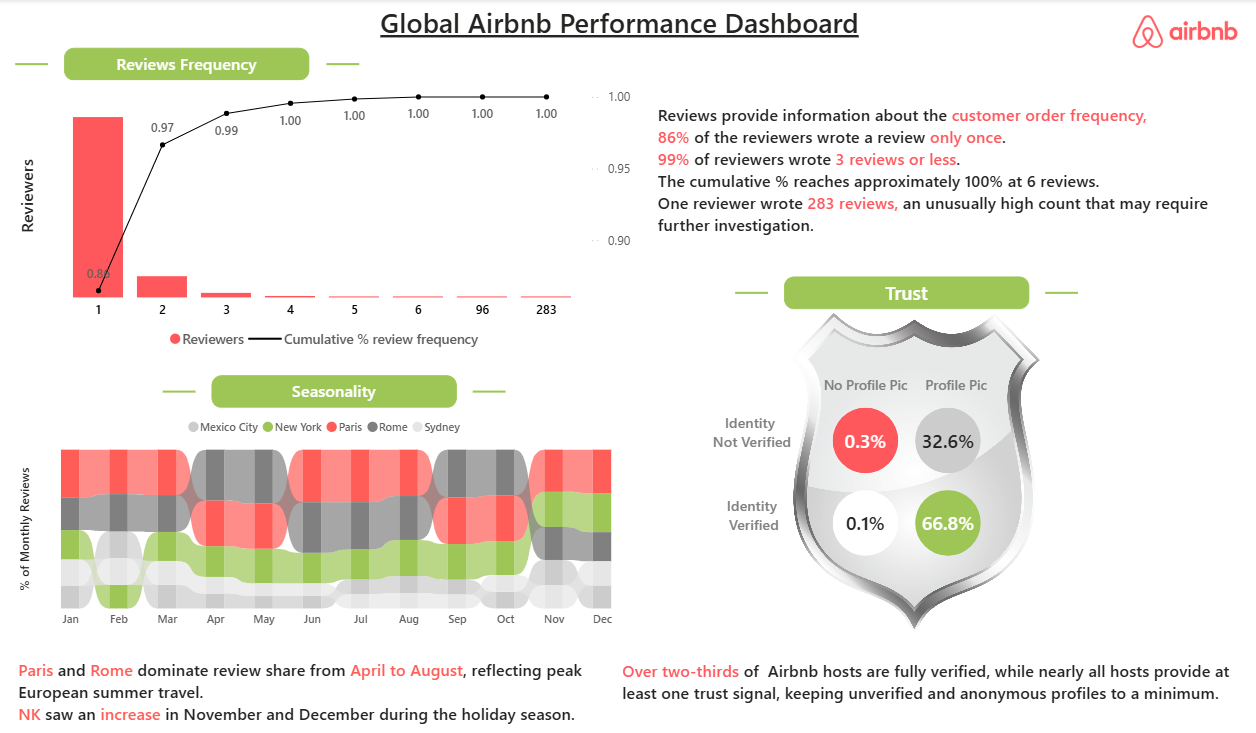

Layout of this report page (visuals, bound fields, positions):
{"tool":"powerbi","page":{"name":"Reviews","canvas":[1230,720],"ordinal":2},"visuals":[{"type":"textbox","box":[368,0,480,48],"z":0},{"type":"image","box":[1104,16,112,32],"z":1000},{"type":"textbox","box":[64,48,240,32],"z":2000},{"type":"shape","box":[16,48,32,32],"z":3000},{"type":"shape","box":[320,48,32,32],"z":4000},{"type":"lineStackedColumnComboChart","fields":{"Category":["Reviews.Reviews per Reviewer"],"Y2":["Reviews.Cumulative % review frequency"],"Y":["Reviews.Reviewers"]},"box":[16,80,608,272],"z":6000},{"type":"textbox","box":[640,96,576,160],"z":7000},{"type":"textbox","box":[768,272,240,32],"z":8000},{"type":"image","box":[656,304,480,320],"z":9000},{"type":"shape","box":[816,400,64,64],"z":10000},{"type":"shape","box":[896,400,64,64],"z":11000},{"type":"shape","box":[816,480,64,64],"z":12000},{"type":"shape","box":[896,480,64,64],"z":13000},{"type":"textbox","box":[816,416,64,32],"z":14000},{"type":"textbox","box":[896,416,64,32],"z":15000},{"type":"textbox","box":[816,496,64,32],"z":16000},{"type":"textbox","box":[800,368,96,32],"z":17000},{"type":"textbox","box":[896,368,80,32],"z":18000},{"type":"textbox","box":[672,400,128,48],"z":19000},{"type":"textbox","box":[672,480,128,48],"z":20000},{"type":"shape","box":[720,272,32,32],"z":21000},{"type":"shape","box":[1024,272,32,32],"z":22000},{"type":"textbox","box":[896,496,64,32],"z":23000},{"type":"textbox","box":[608,640,608,64],"z":24000},{"type":"textbox","box":[208,368,240,32],"z":25000},{"type":"shape","box":[464,368,32,32],"z":26000},{"type":"shape","box":[160,368,32,32],"z":27000},{"type":"ribbonChart","fields":{"Y":["Reviews.% of Monthly Reviews"],"Series":["Listings.city"],"Category":["Reviews.Review Month"]},"box":[16,400,608,224],"z":28000},{"type":"textbox","box":[16,640,576,80],"z":30000}]}

Visuals, with their boxes in screenshot pixels (x1, y1, x2, y2), scaled from the page's 1230x720 canvas onto the 1256x733 screenshot:
textbox: Rect(376, 0, 866, 49)
image: Rect(1127, 16, 1242, 49)
textbox: Rect(65, 49, 310, 81)
shape: Rect(16, 49, 49, 81)
shape: Rect(327, 49, 359, 81)
lineStackedColumnComboChart - Reviews.Reviews per Reviewer x Reviews.Cumulative % review frequency: Rect(16, 81, 637, 358)
textbox: Rect(654, 98, 1242, 261)
textbox: Rect(784, 277, 1029, 309)
image: Rect(670, 309, 1160, 635)
shape: Rect(833, 407, 899, 472)
shape: Rect(915, 407, 980, 472)
shape: Rect(833, 489, 899, 554)
shape: Rect(915, 489, 980, 554)
textbox: Rect(833, 424, 899, 456)
textbox: Rect(915, 424, 980, 456)
textbox: Rect(833, 505, 899, 538)
textbox: Rect(817, 375, 915, 407)
textbox: Rect(915, 375, 997, 407)
textbox: Rect(686, 407, 817, 456)
textbox: Rect(686, 489, 817, 538)
shape: Rect(735, 277, 768, 309)
shape: Rect(1046, 277, 1078, 309)
textbox: Rect(915, 505, 980, 538)
textbox: Rect(621, 652, 1242, 717)
textbox: Rect(212, 375, 457, 407)
shape: Rect(474, 375, 506, 407)
shape: Rect(163, 375, 196, 407)
ribbonChart - Reviews.% of Monthly Reviews x Listings.city: Rect(16, 407, 637, 635)
textbox: Rect(16, 652, 605, 732)
